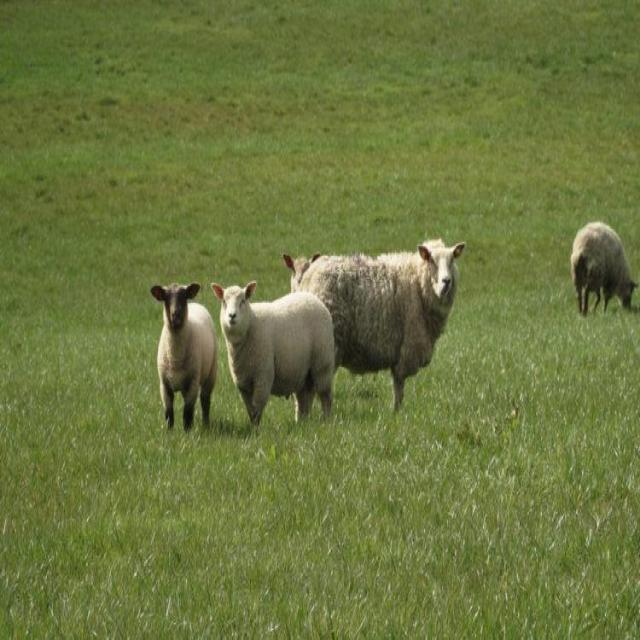Sheep: (295, 233, 463, 422), (211, 276, 335, 434), (151, 280, 217, 435), (570, 218, 637, 317)
